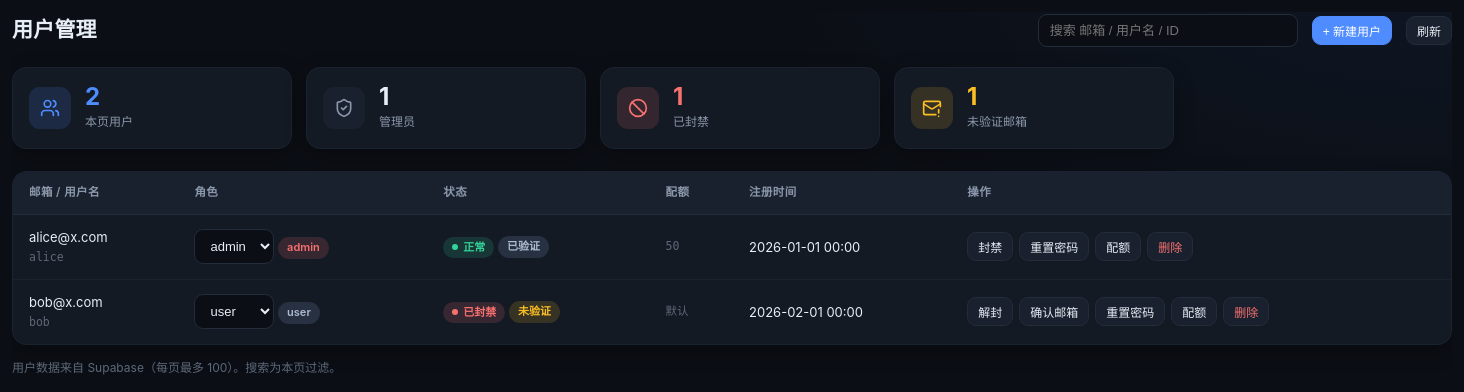
Test: UsersTab › filters via search box
expect the text "alice@x.com" is shown: met, box [29,229,108,245]
Type "bob" into the field with placeholder "搜索 邮箱 / 用户名 / ID" at [1168, 30], box [1038,14,1298,47]
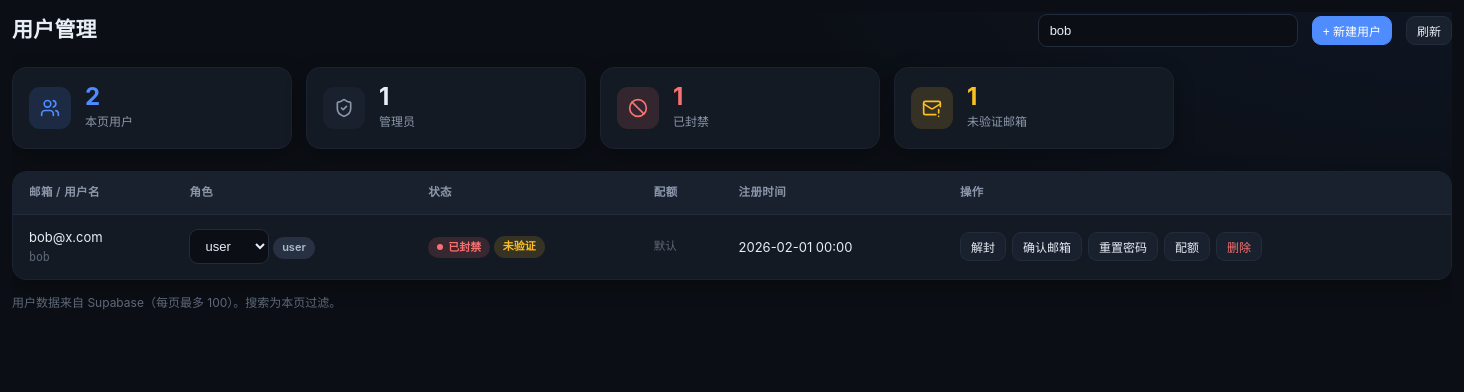
expect the text "bob@x.com" is shown: met, box [29,229,103,245]
expect the text "alice@x.com" is gone: met
